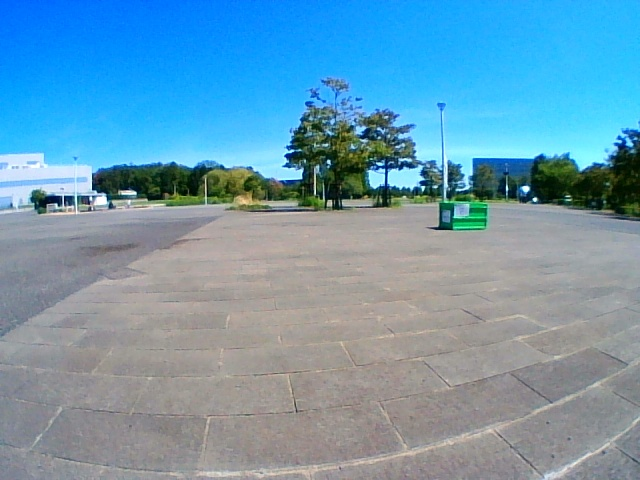green_box: (440, 201, 488, 231)
tag: (453, 203, 468, 217)
